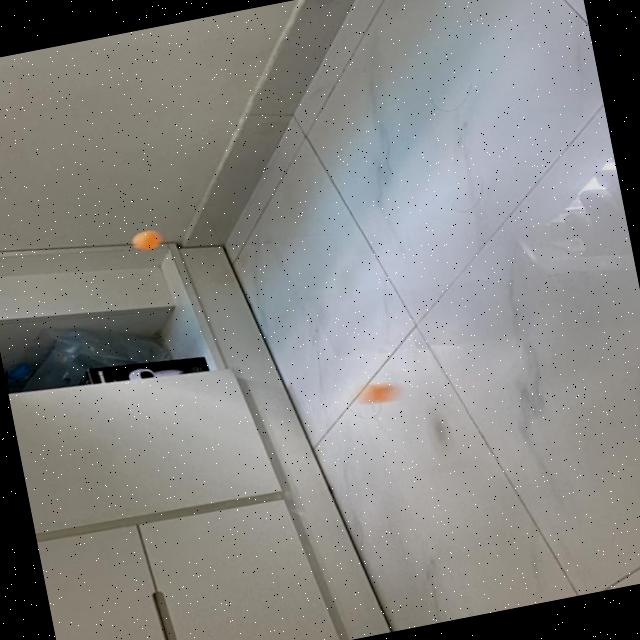ping-pong-ball: (357, 378, 398, 406), (132, 228, 160, 250)
